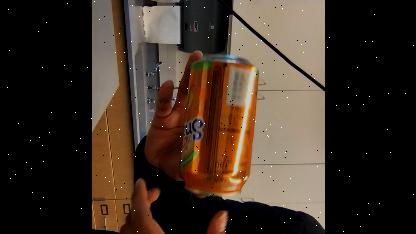Can: (176, 51, 266, 201)
